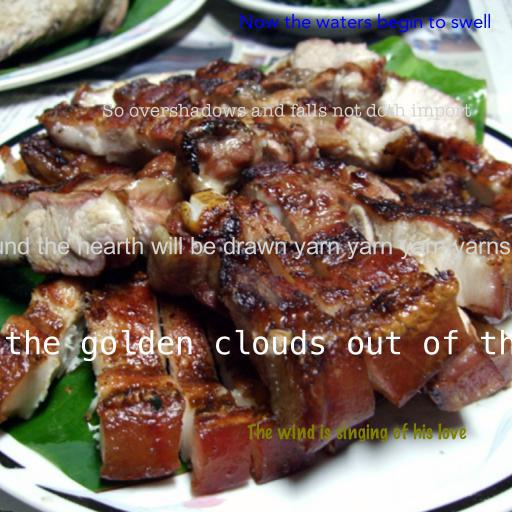American Typewriter: (102, 103, 472, 120)
Arial: (0, 236, 512, 260)
Avenir: (239, 13, 491, 33)
Marker Felt: (246, 423, 466, 443)
Menlo: (0, 329, 512, 362)
